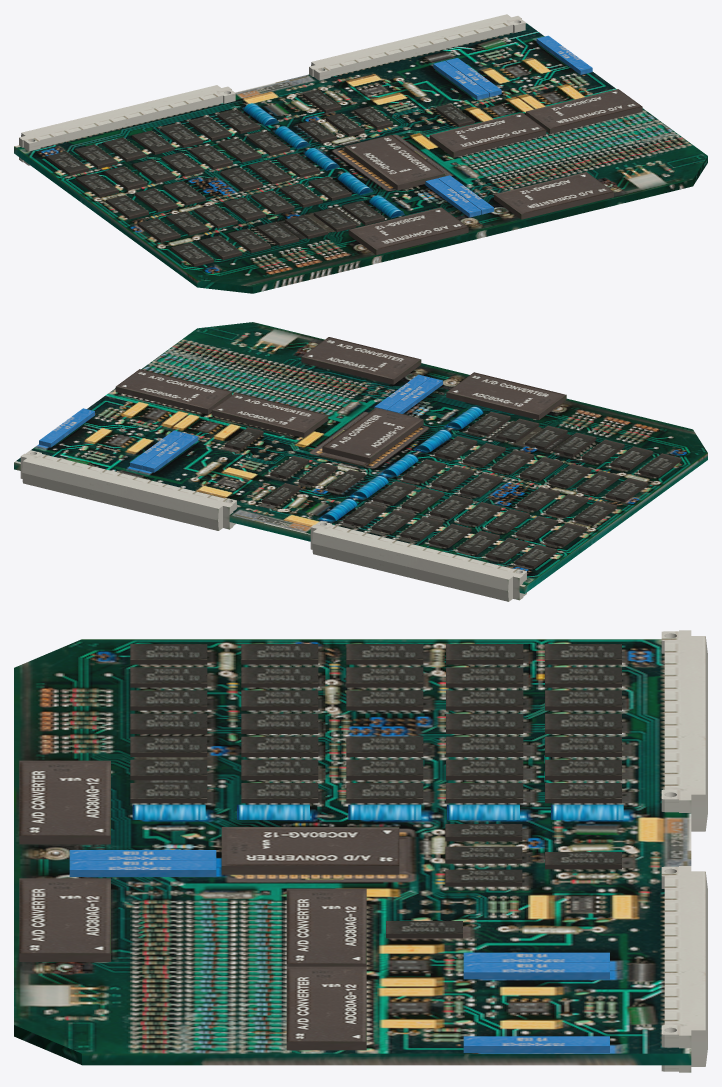
Rendered from Chip.FBX.
The picture shows the model from 3 angles, top to bottom: view 1: azimuth 30°, elevation 25°; view 2: azimuth 150°, elevation 25°; view 3: azimuth 270°, elevation 25°; orthographic projection. The views are drawn at different scales.
Parts seen in each view (by area): view 1: Chip; view 2: Chip; view 3: Chip.
Part boxes in pixels (bbox=[...]): Chip: bbox=[14, 14, 707, 293]; Chip: bbox=[14, 322, 707, 601]; Chip: bbox=[14, 630, 707, 1072].
Bounding box in the file's own units: 14.44 × 0.5997 × 10.22.
Materials: 1 (1 with a texture image).
